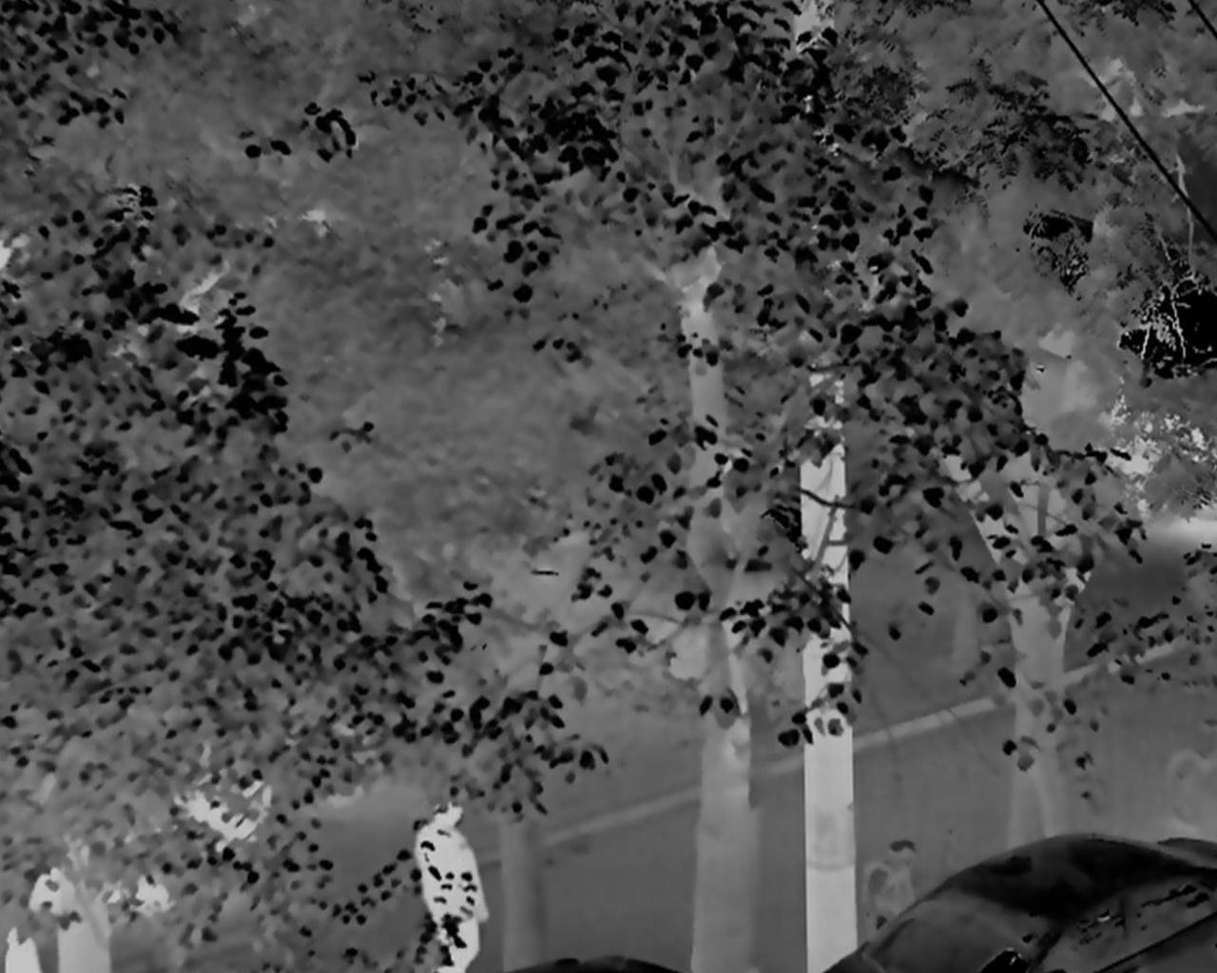person: (409, 797, 492, 973)
